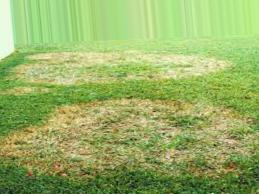patch: (67, 117, 155, 158), (27, 131, 53, 162), (215, 119, 232, 151), (115, 102, 155, 115), (70, 103, 109, 115), (195, 151, 215, 162), (188, 59, 204, 66), (88, 52, 98, 59)
